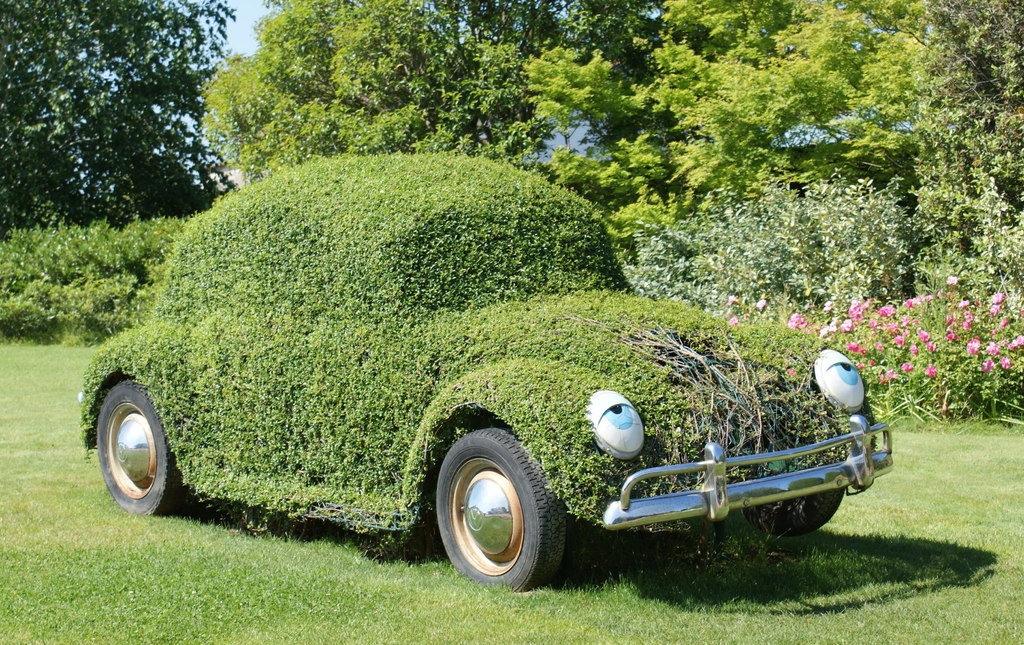Car: (81, 153, 893, 592)
